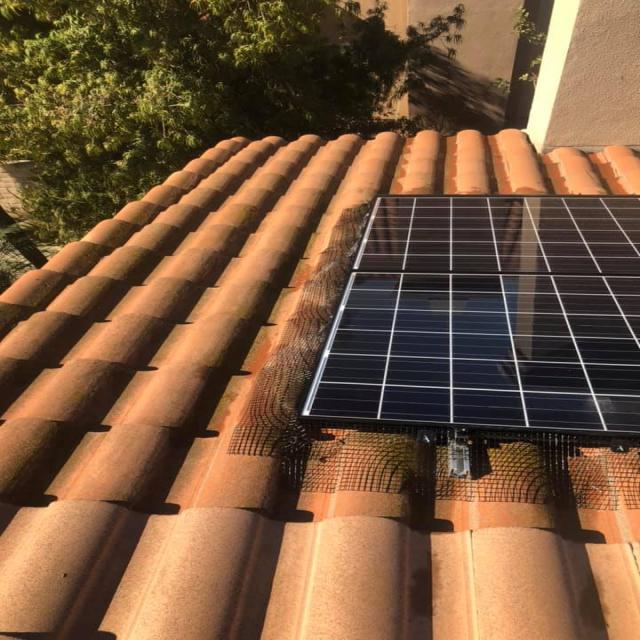clean-solar-panel: (305, 198, 638, 434)
